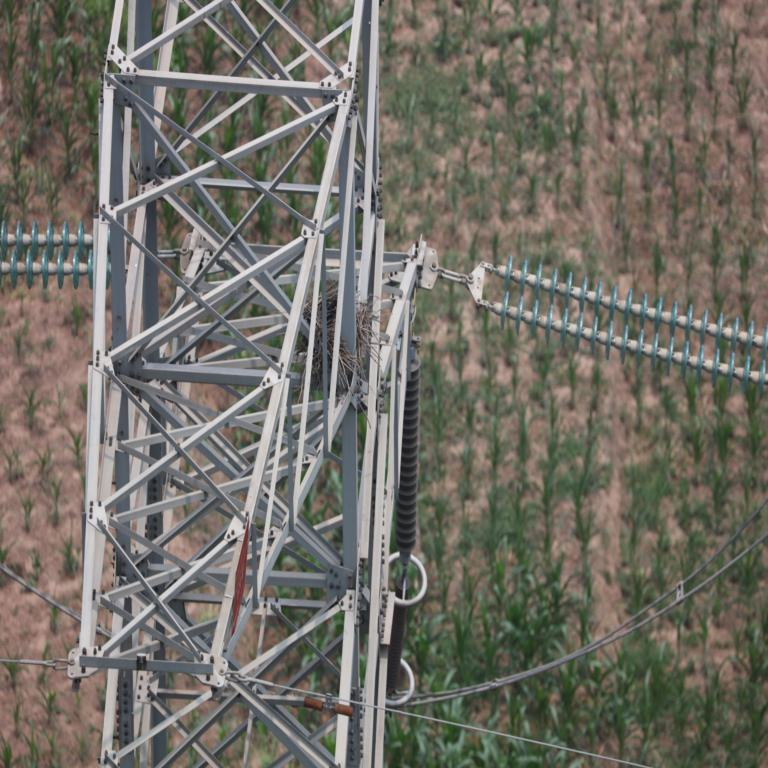nest: (302, 296, 374, 381)
